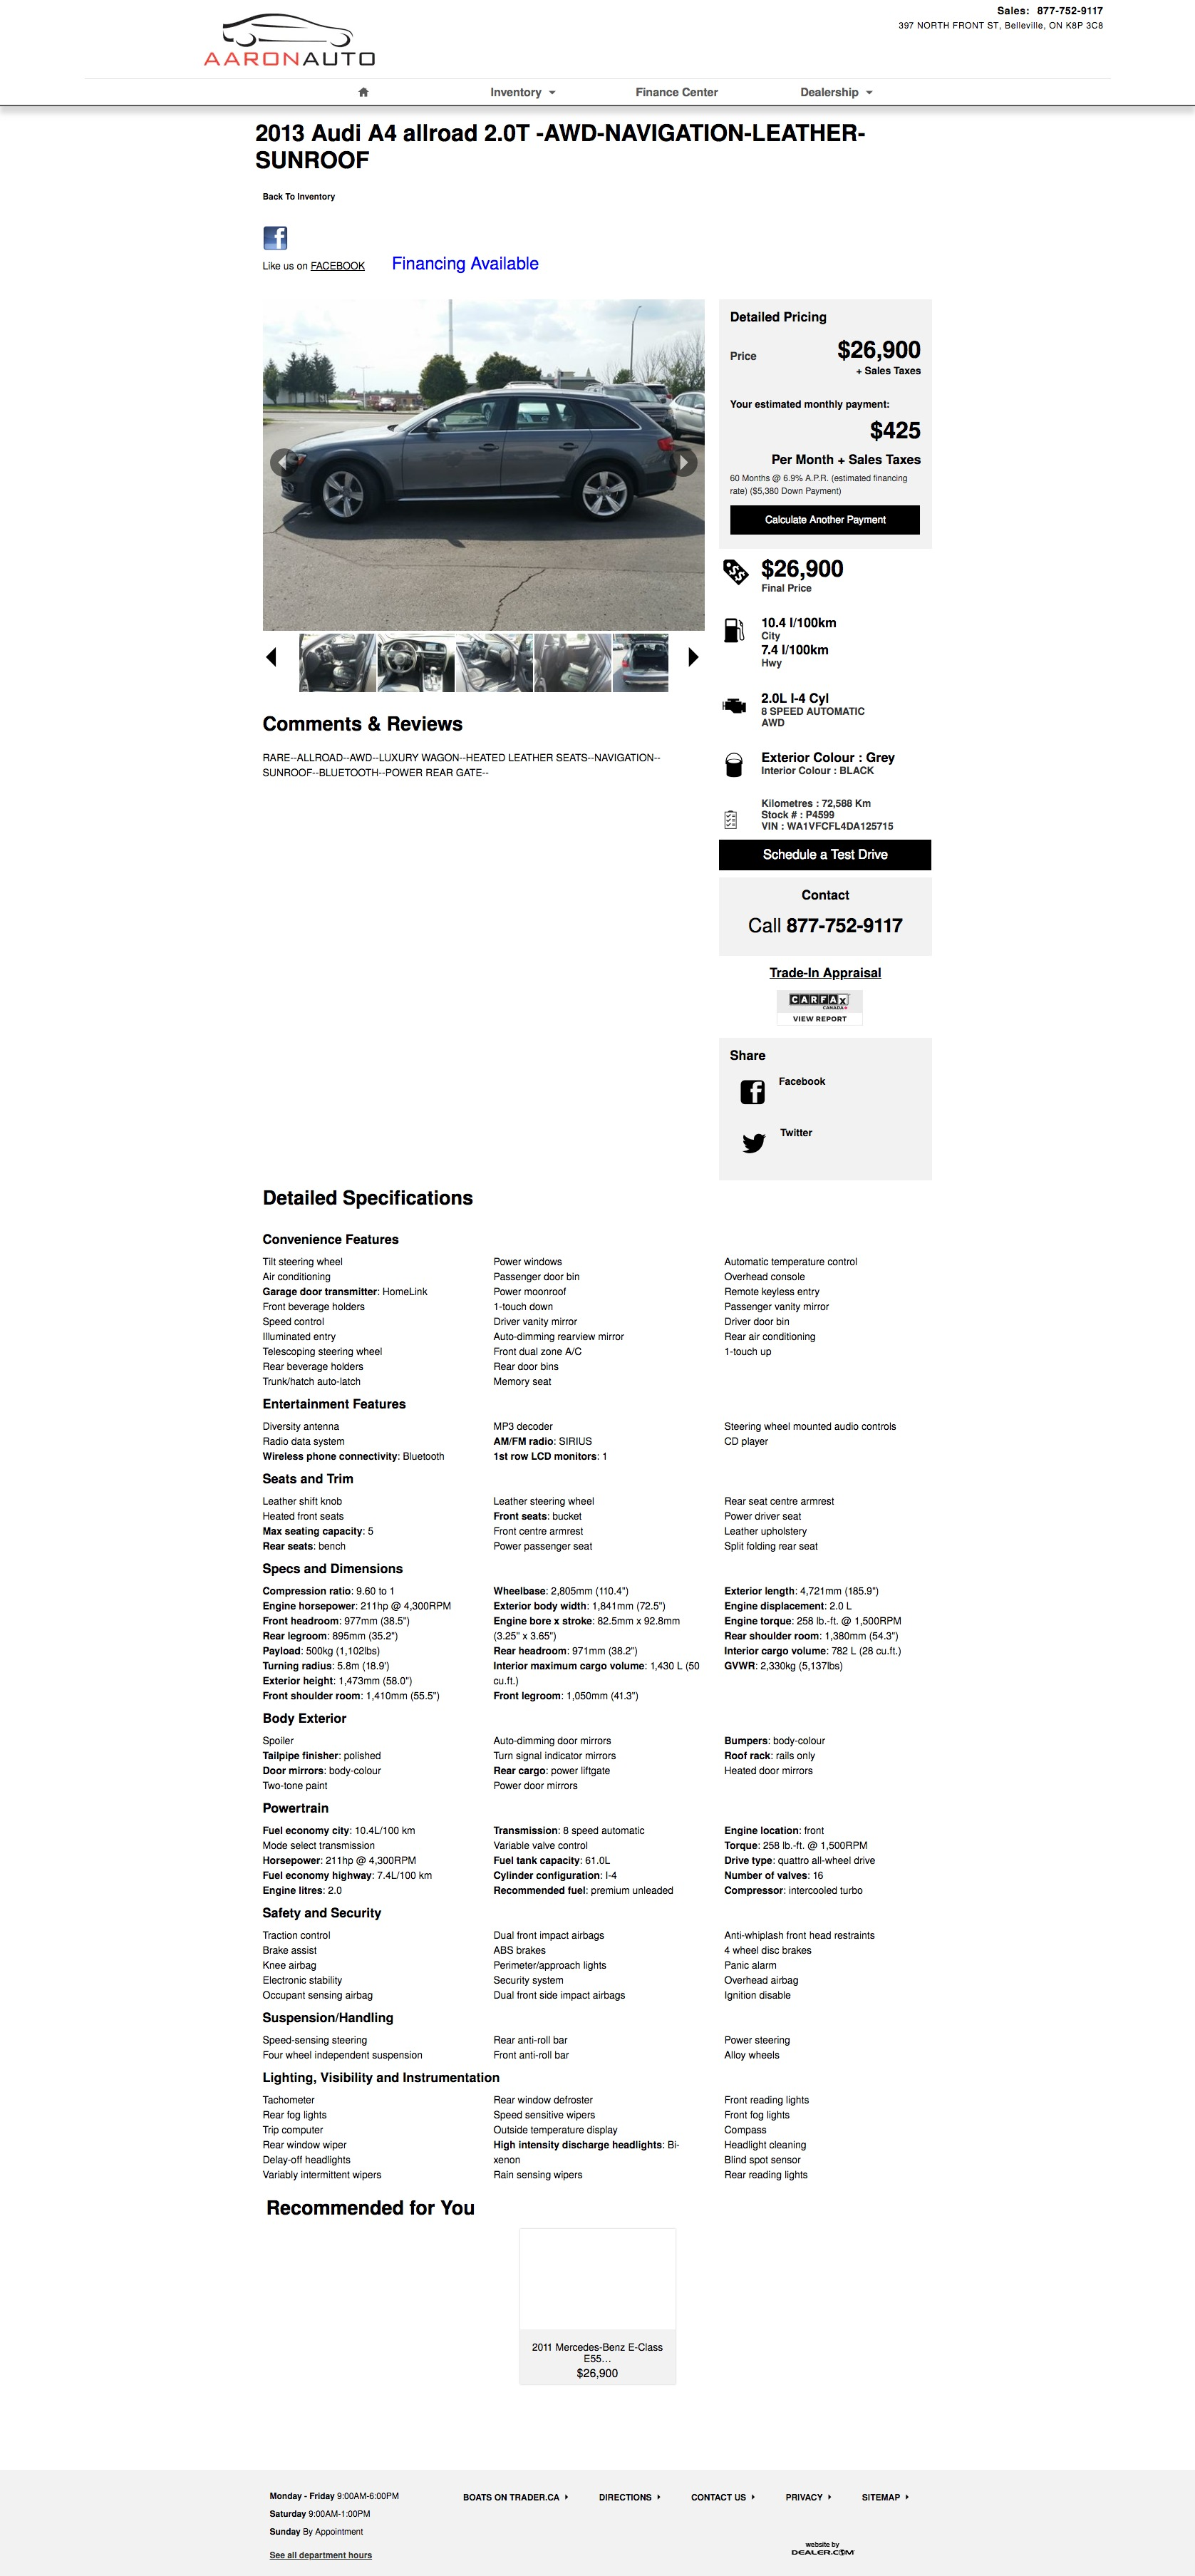car: (688, 647, 699, 669)
